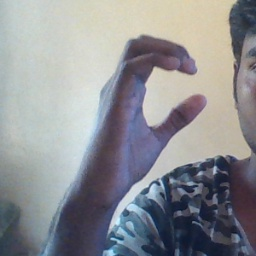C: (108, 31, 211, 151)
